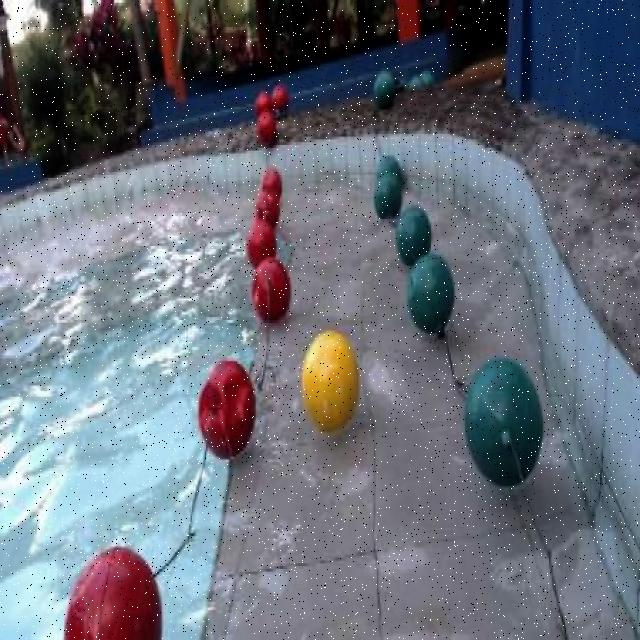buoy: (462, 356, 541, 486), (65, 544, 163, 638), (196, 357, 256, 458), (301, 330, 360, 431), (406, 253, 456, 333), (251, 256, 291, 324), (394, 207, 431, 264), (245, 221, 276, 271), (372, 171, 402, 217), (256, 188, 280, 227), (375, 154, 400, 190), (373, 68, 396, 107), (260, 169, 282, 204), (254, 108, 274, 144), (270, 85, 288, 112), (254, 92, 272, 116)
